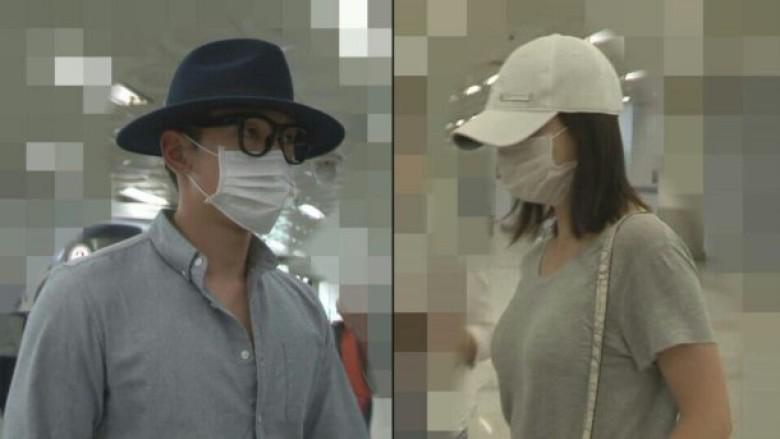OK: (185, 110, 300, 235), (494, 122, 584, 211)
